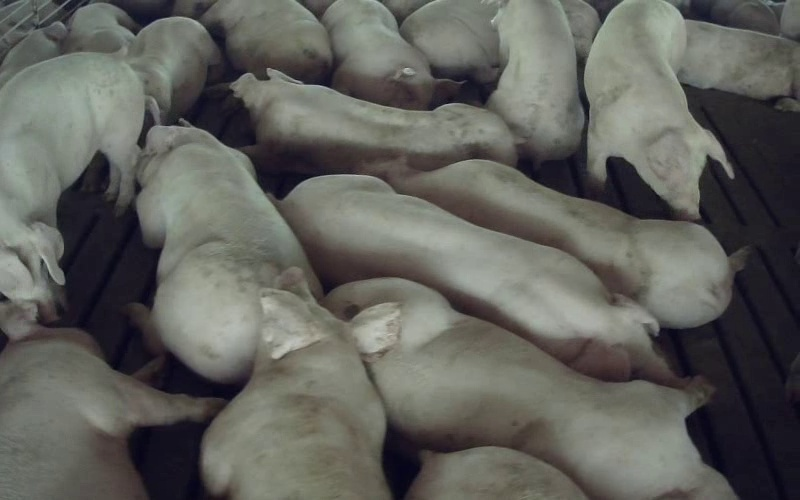pig: (325, 279, 735, 499), (277, 176, 674, 383), (370, 160, 747, 326), (127, 126, 320, 381), (201, 270, 399, 499), (0, 53, 144, 320), (584, 0, 733, 219), (231, 69, 516, 174), (487, 0, 583, 166), (321, 0, 460, 109), (678, 20, 799, 111), (200, 0, 332, 82), (126, 17, 220, 123), (400, 0, 499, 83), (62, 3, 138, 53)
